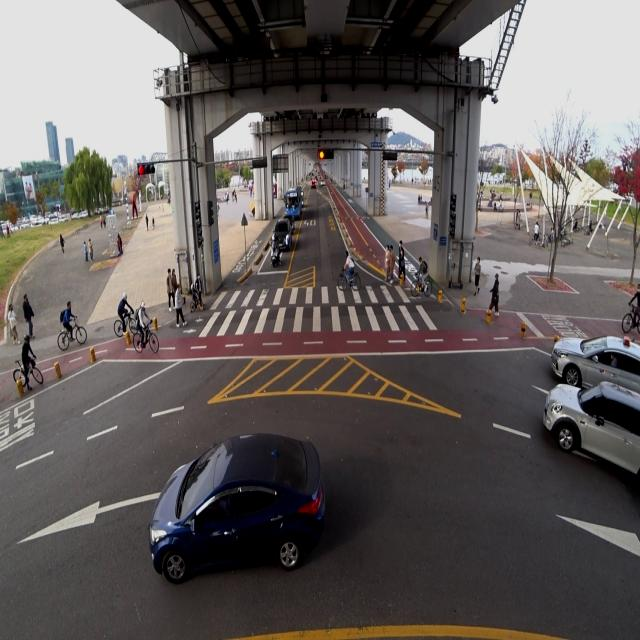Bus: (284, 184, 303, 222)
Car: (142, 428, 358, 606), (538, 376, 640, 491), (541, 316, 640, 395), (270, 216, 290, 256), (286, 212, 298, 238)
Motorcycle: (269, 232, 280, 266)
